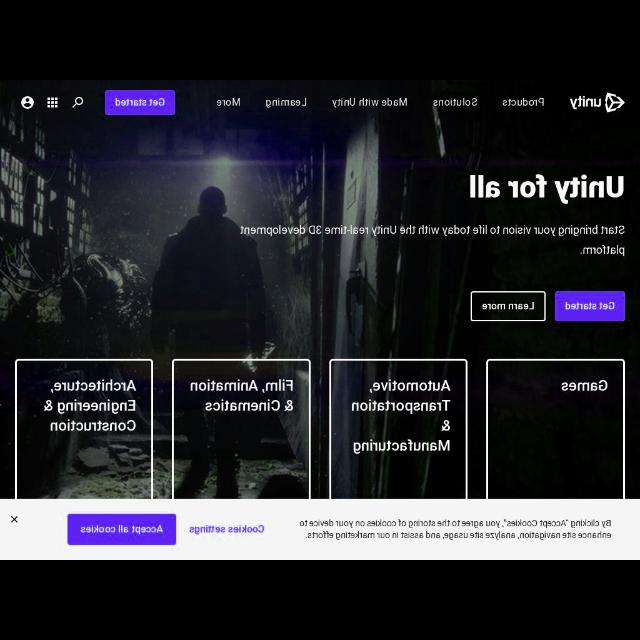backgroundimage: (2, 120, 640, 502)
icon: (20, 96, 34, 110), (71, 97, 85, 109), (8, 513, 20, 525), (48, 96, 58, 110)
iframe: (8, 500, 636, 560)
image: (569, 87, 627, 115)
link: (188, 522, 266, 536)
text: (239, 224, 627, 256), (351, 380, 452, 458), (299, 520, 613, 540), (40, 378, 138, 434), (188, 376, 296, 414), (468, 176, 624, 200), (333, 95, 409, 109), (80, 524, 164, 534), (114, 96, 166, 110), (564, 298, 614, 312), (560, 380, 610, 394), (264, 96, 310, 110), (482, 300, 534, 312), (501, 95, 545, 108), (432, 95, 476, 108), (214, 94, 242, 110)
textbutton: (66, 513, 176, 545), (469, 290, 546, 322), (554, 290, 626, 322), (103, 88, 177, 115)
toolbar: (1, 82, 640, 118)
